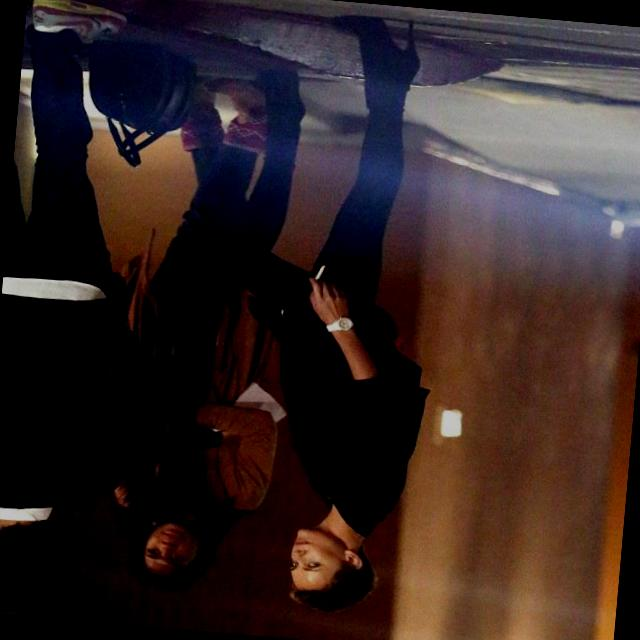cigarette: (306, 256, 330, 292)
